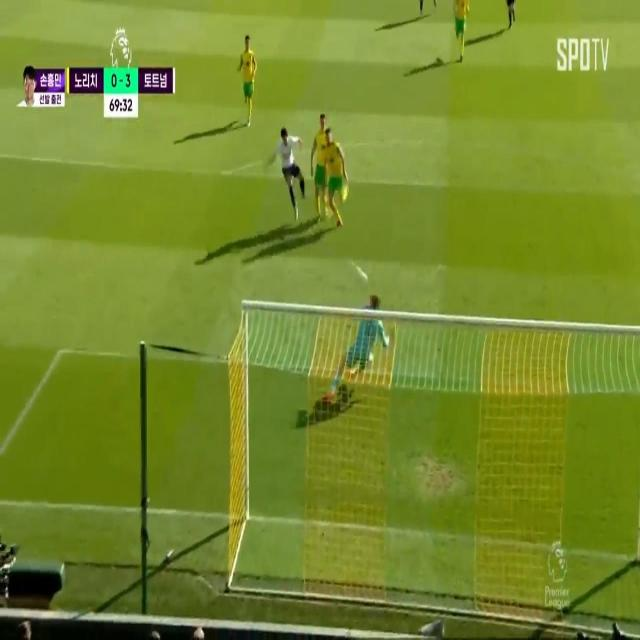ball: (358, 263, 371, 287)
player: (276, 124, 306, 212), (326, 128, 353, 221), (310, 105, 331, 208), (240, 36, 256, 122), (453, 0, 469, 68)
